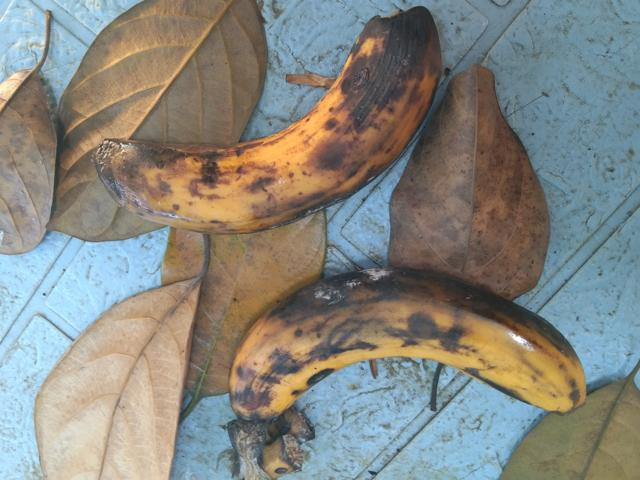overripe: (69, 0, 479, 247), (199, 256, 597, 460)
